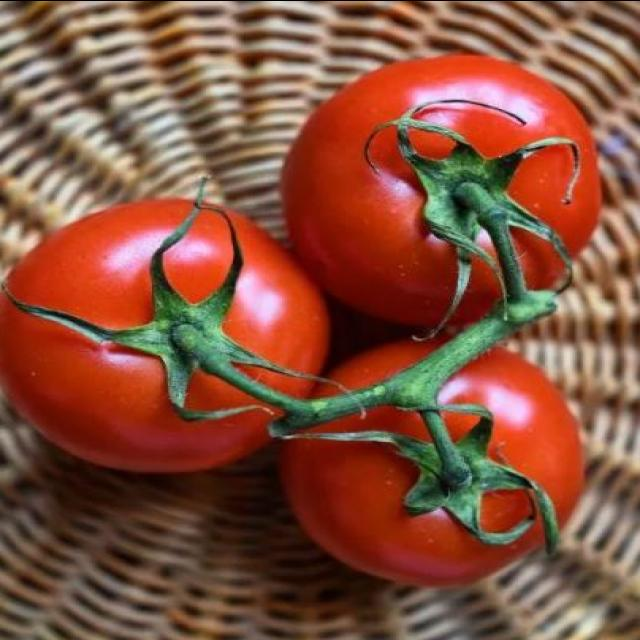Healthy: (0, 186, 357, 463), (298, 334, 597, 596)
